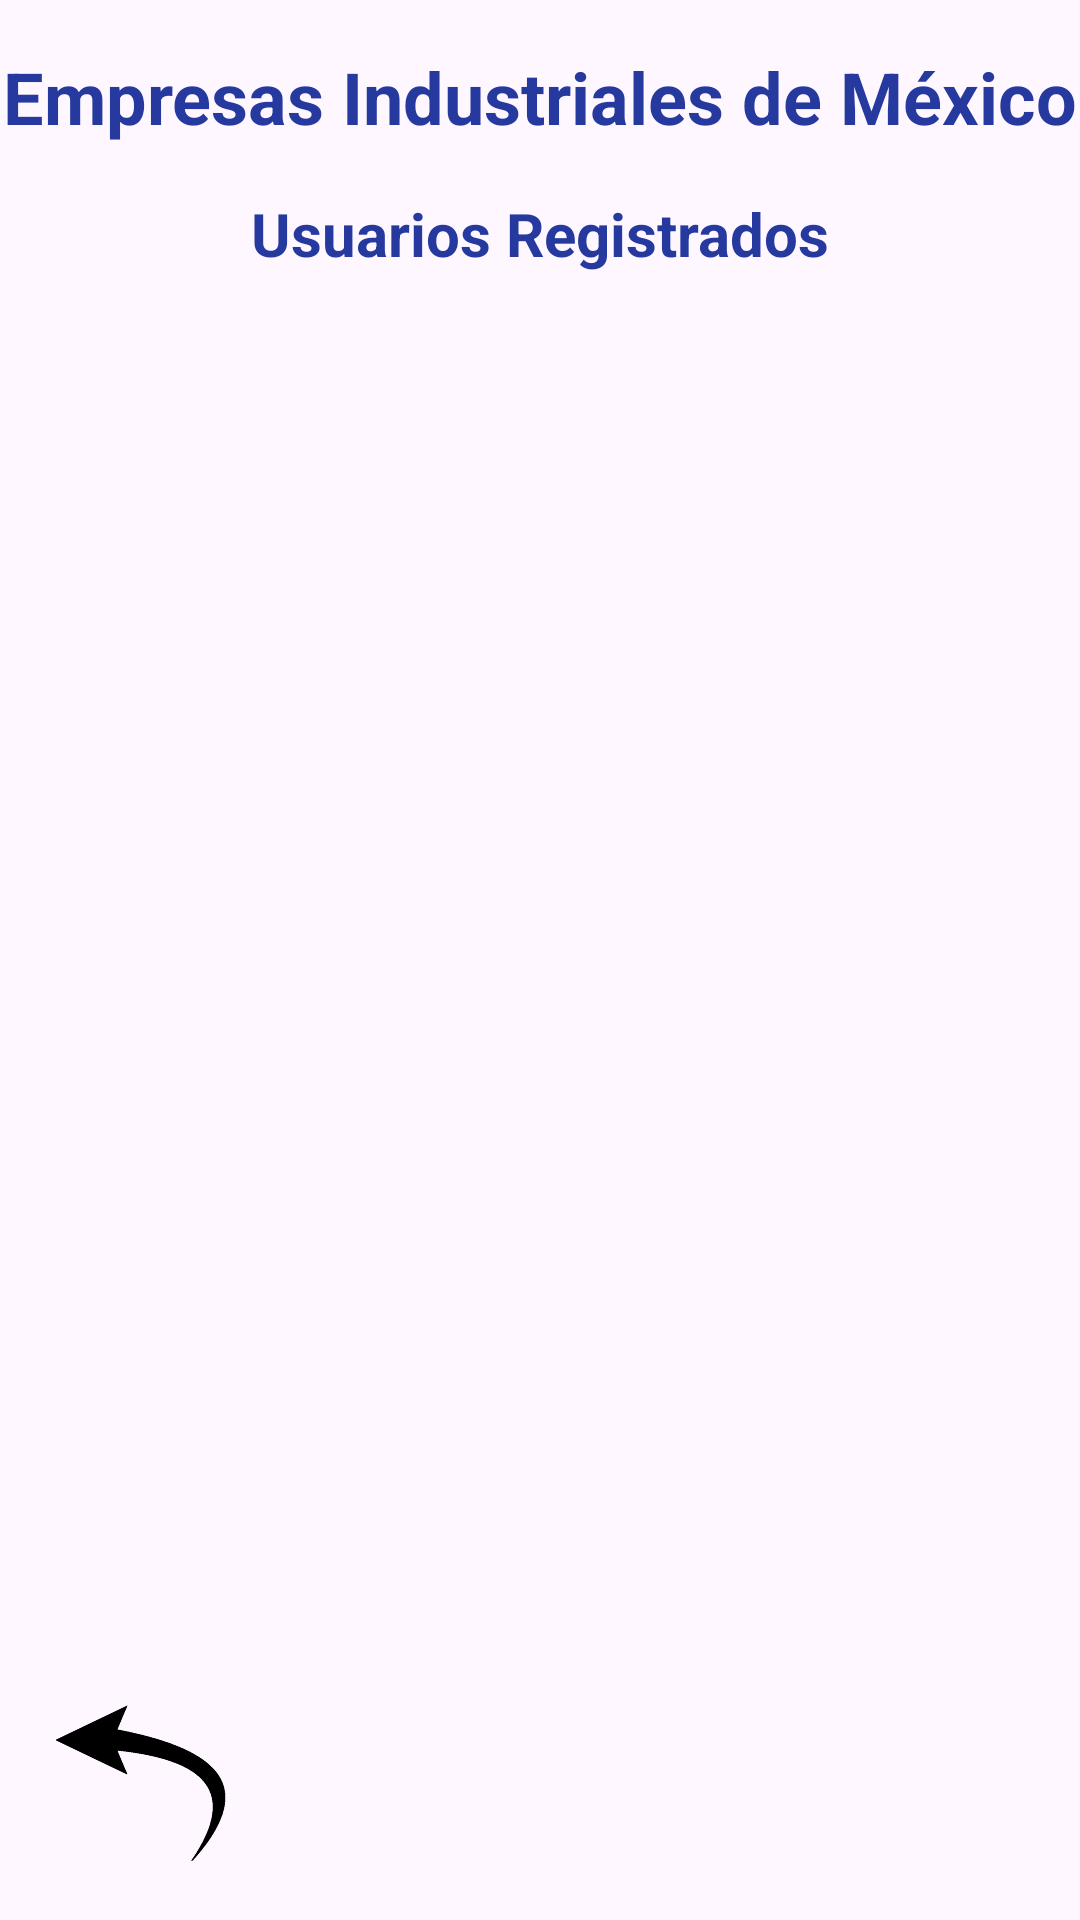

Where icons sit on this 1080*1920 app screen, as (x1, y1, x2, y2):
regresarflecha: (56, 1705, 226, 1861)
